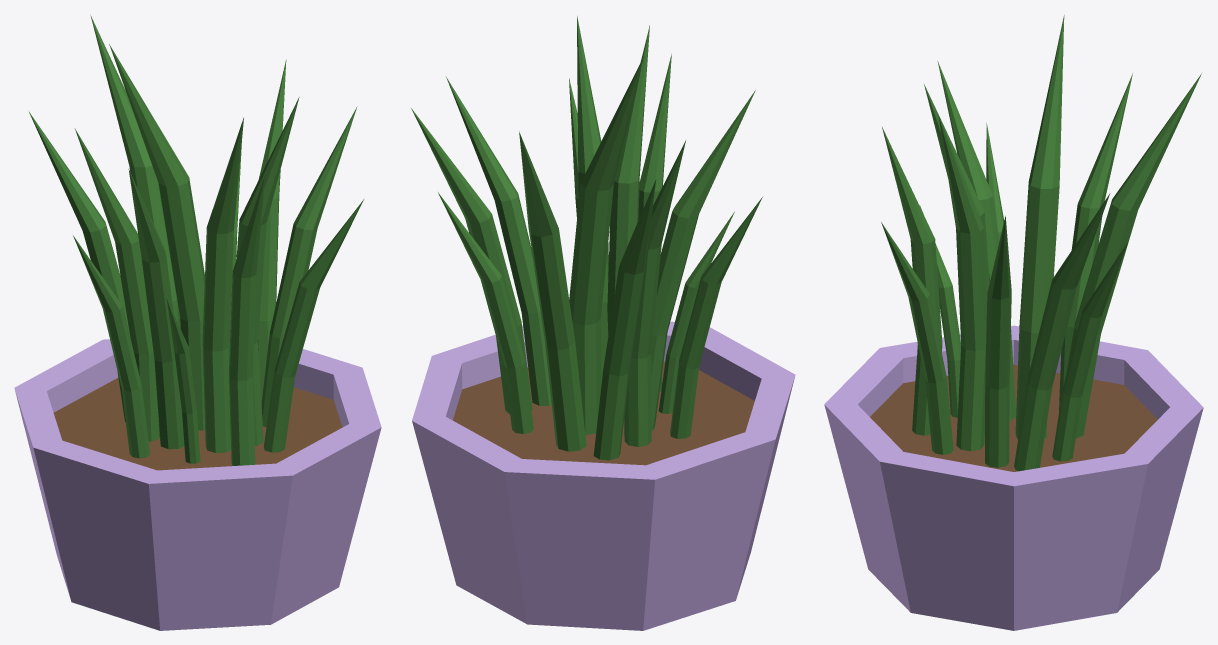
The model's file is Flower_5.fbx.
The picture shows the model from 3 angles, left to right: view 1: azimuth 30°, elevation 25°; view 2: azimuth 150°, elevation 25°; view 3: azimuth 270°, elevation 25°; orthographic projection. The views are drawn at different scales.
Parts seen in each view (by area): view 1: Flower_5; view 2: Flower_5; view 3: Flower_5.
Part boxes in pixels (x1=…): Flower_5: x1=14, y1=15, x2=381, y2=630; Flower_5: x1=411, y1=16, x2=795, y2=630; Flower_5: x1=824, y1=15, x2=1203, y2=630.
Bounding box in the file's own units: 49.19 × 49.19 × 74.98.
